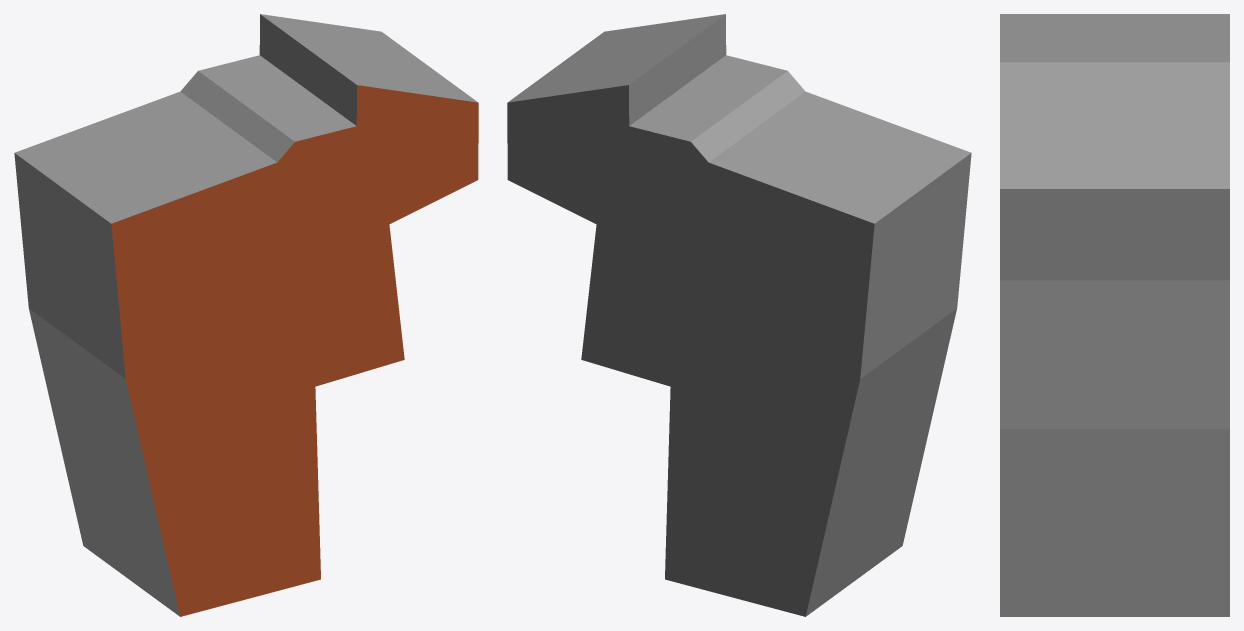
File: construction_5262_assumed_A_Casa_h6m.obj
3 views of the same model, side by side, from view 1: azimuth 30°, elevation 25°; view 2: azimuth 150°, elevation 25°; view 3: azimuth 270°, elevation 25° (orthographic). The views are drawn at different scales.
Parts seen in each view (by area): view 1: construction_5262_assumed_A_Casa; view 2: construction_5262_assumed_A_Casa; view 3: construction_5262_assumed_A_Casa.
Part boxes in pixels (x1=…): construction_5262_assumed_A_Casa: x1=14, y1=14, x2=478, y2=616; construction_5262_assumed_A_Casa: x1=507, y1=14, x2=971, y2=616; construction_5262_assumed_A_Casa: x1=1000, y1=14, x2=1229, y2=616.
Bounding box in the file's own units: 13.12 × 16.68 × 6.
